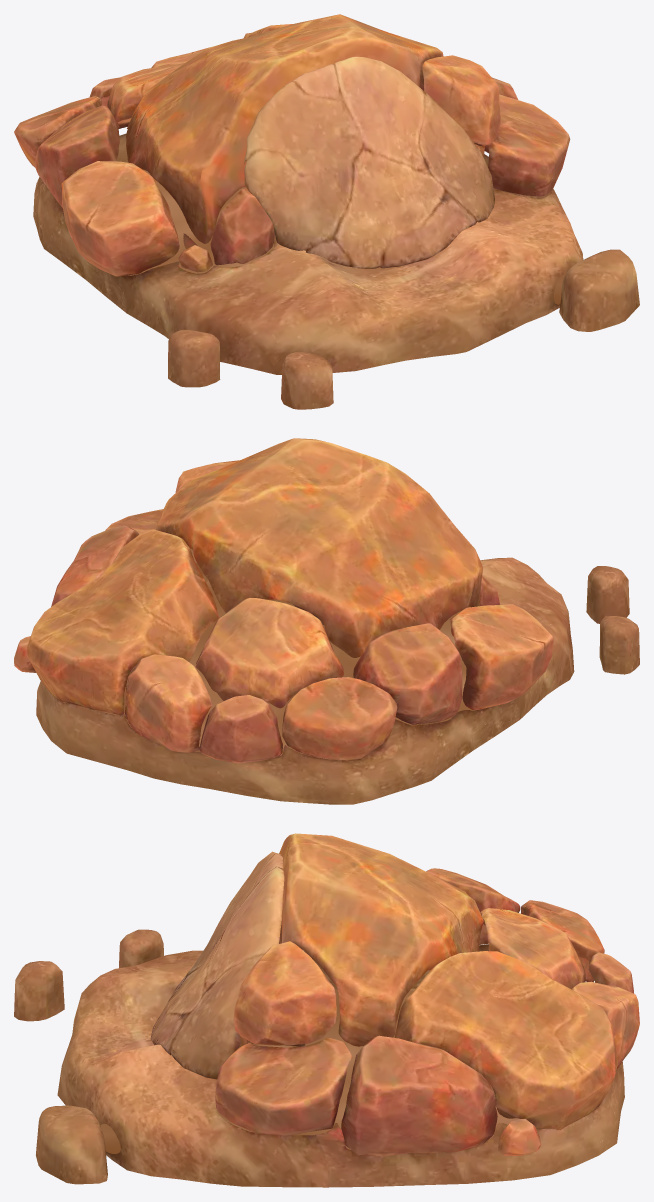
3 views of the same model, one above another, from view 1: azimuth 30°, elevation 25°; view 2: azimuth 150°, elevation 25°; view 3: azimuth 270°, elevation 25° (orthographic). The views are drawn at different scales.
Parts seen in each view (by area): view 1: SM_Kebbit_Burrow_Umbral_Sands_02_LOD0; view 2: SM_Kebbit_Burrow_Umbral_Sands_02_LOD0; view 3: SM_Kebbit_Burrow_Umbral_Sands_02_LOD0.
Boxes of the visible parts, <box> form: SM_Kebbit_Burrow_Umbral_Sands_02_LOD0: <box>14,14,639,409</box>; SM_Kebbit_Burrow_Umbral_Sands_02_LOD0: <box>14,438,639,804</box>; SM_Kebbit_Burrow_Umbral_Sands_02_LOD0: <box>14,833,639,1187</box>.
Bounding box in the file's own units: 1.44 × 0.6867 × 1.67.
Materials: 1 (1 with a texture image).
